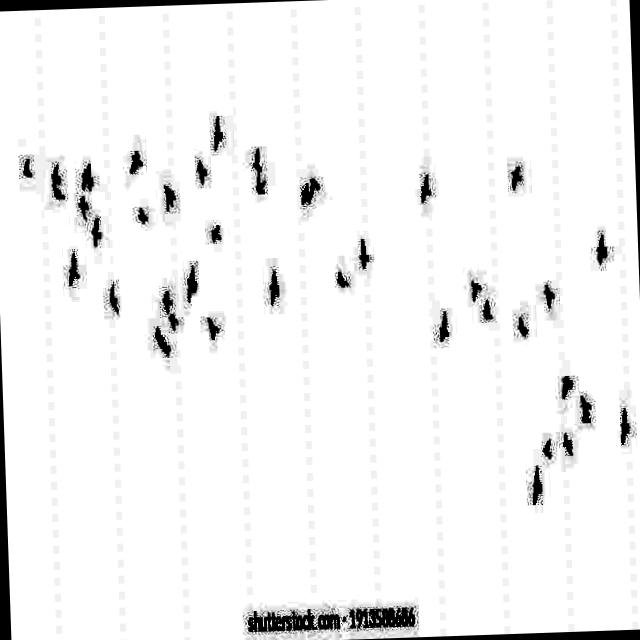bird: (146, 314, 173, 374), (160, 278, 182, 346), (186, 138, 214, 190), (479, 286, 502, 347), (352, 227, 376, 284), (290, 170, 324, 210), (200, 192, 222, 250), (534, 429, 556, 485), (60, 244, 83, 296), (262, 256, 284, 310), (588, 226, 615, 270), (50, 140, 66, 212), (206, 108, 232, 152), (11, 150, 38, 192), (182, 254, 201, 308), (574, 392, 600, 429), (504, 156, 527, 197), (124, 138, 144, 185), (154, 177, 180, 213), (98, 279, 121, 319), (434, 304, 454, 349), (530, 460, 545, 520), (557, 418, 579, 458), (78, 153, 98, 196), (204, 311, 228, 346), (616, 402, 636, 444), (418, 162, 434, 212), (463, 273, 485, 309), (554, 368, 576, 404), (332, 262, 355, 296), (250, 172, 270, 210), (130, 197, 146, 241), (516, 305, 532, 348), (540, 280, 560, 314), (90, 214, 104, 253)
